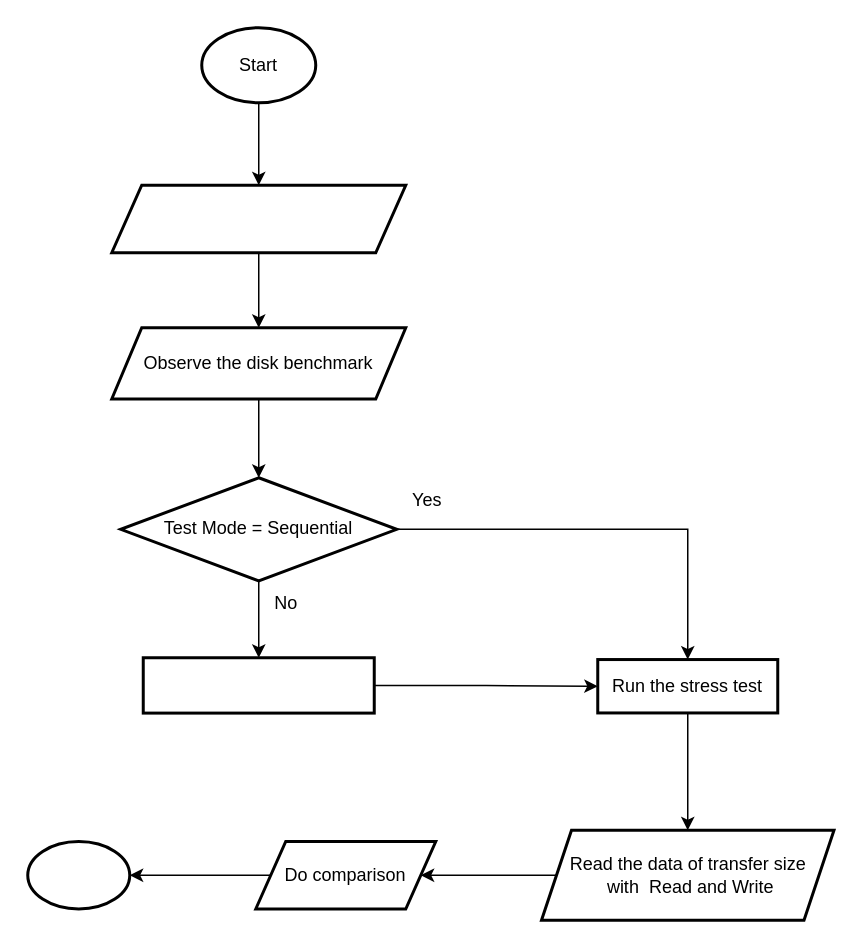
This 861x947 diagram has some shape labels left out. Each missing label, with the box of its shape:
Open MiniTool Partition Wizard: (110, 183, 406, 254)
Stop: (26, 839, 130, 910)
Test Mode = Random: (141, 656, 375, 714)
